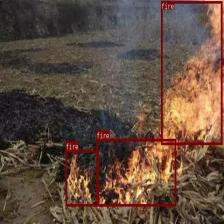fire: (161, 1, 222, 145), (96, 139, 176, 206), (65, 149, 98, 206)
